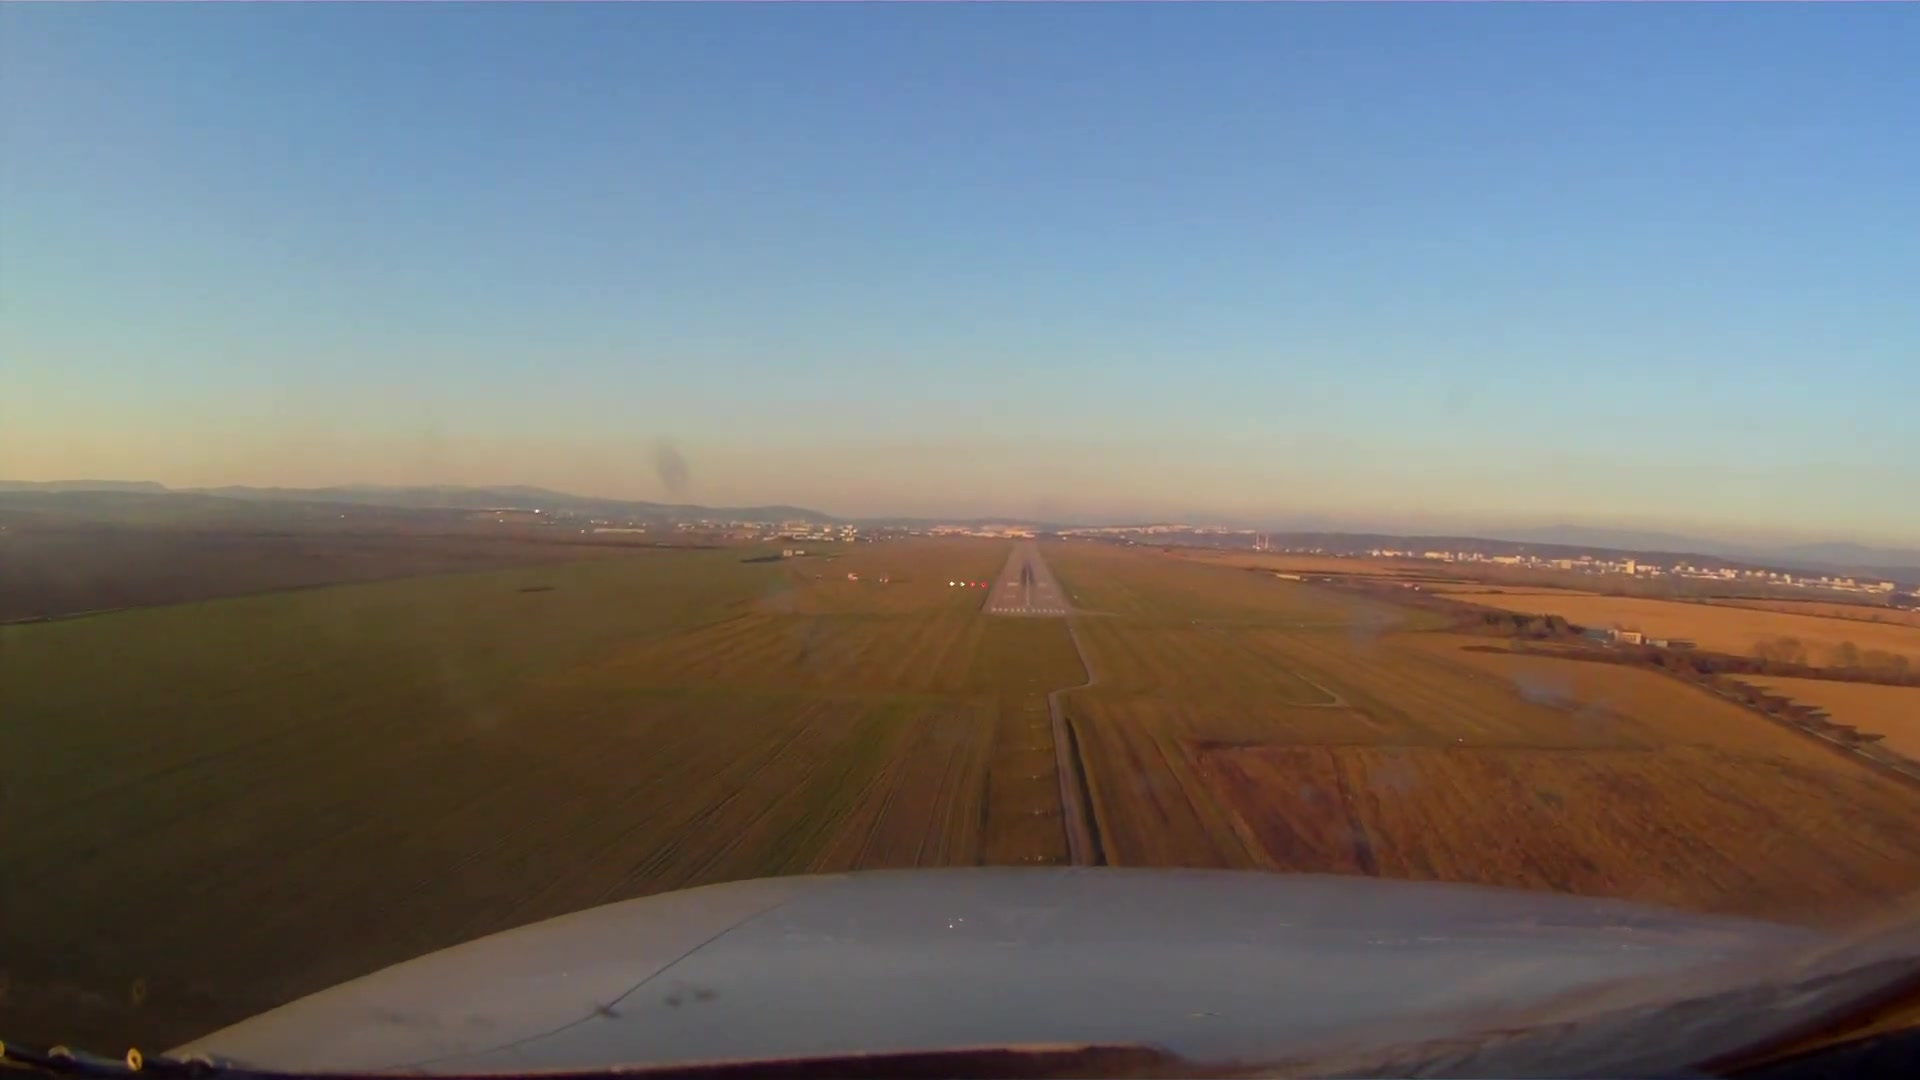entrance: (989, 605, 1069, 617)
runway: (982, 545, 1077, 618)
